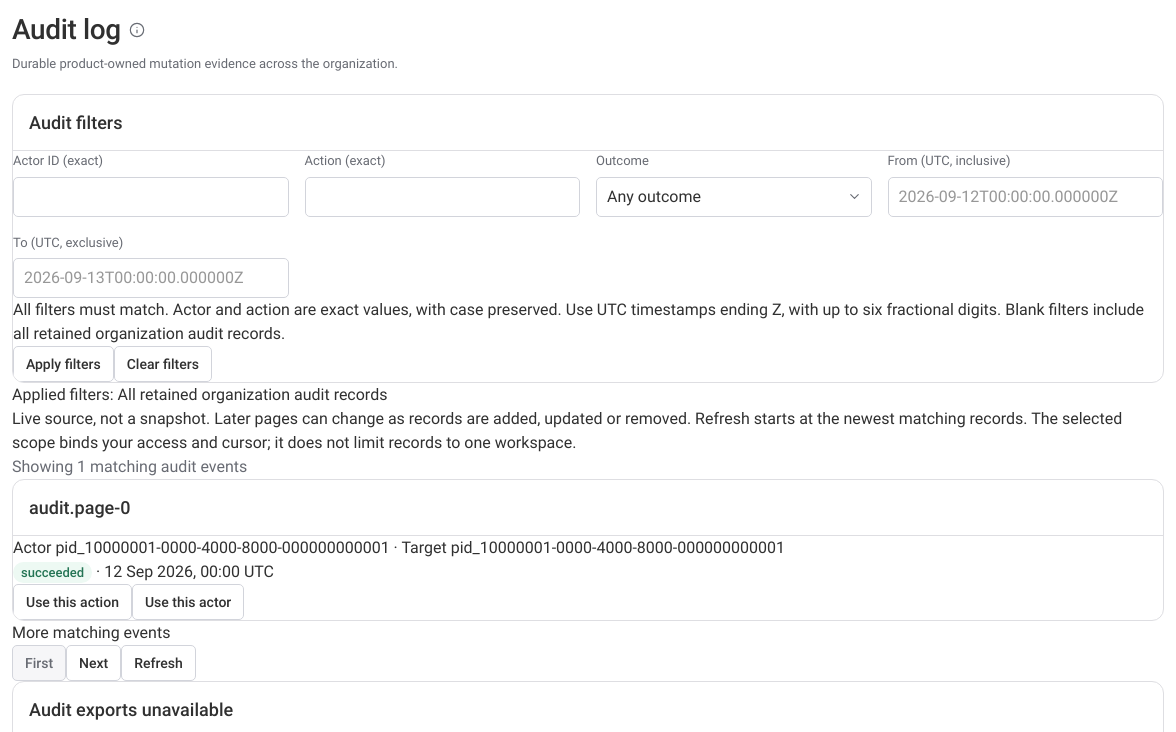
Test: bounded audit browsing › retains only the visible page beyond twenty pages, and First and Refresh restart newest
The width and height of the screenshot is (1176, 732).
Later steps or results of the test are not shown.
Expected: the heading "audit.page-0" is shown, [29,496,130,520]
Click the button "Next" at (94, 663), box [66,645,121,681]
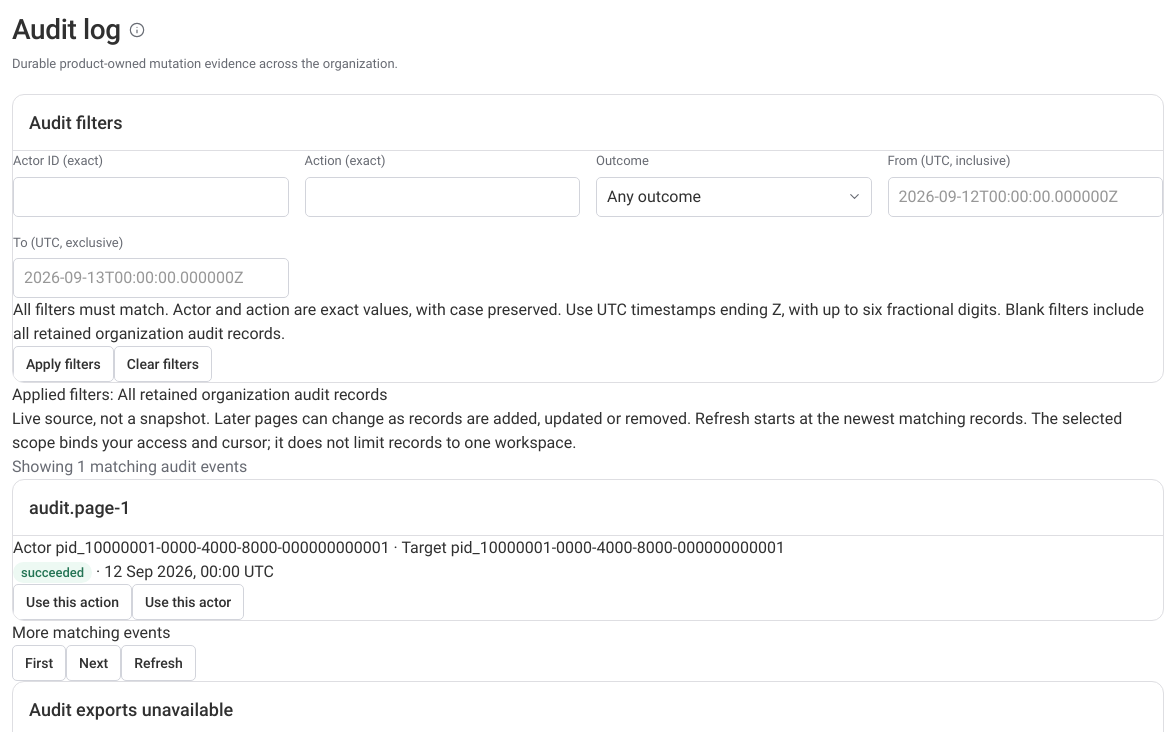
Expected: the number of buttons "Use this action" is 1, [13,584,132,620]
Expected: the heading "audit.page-0" is gone
